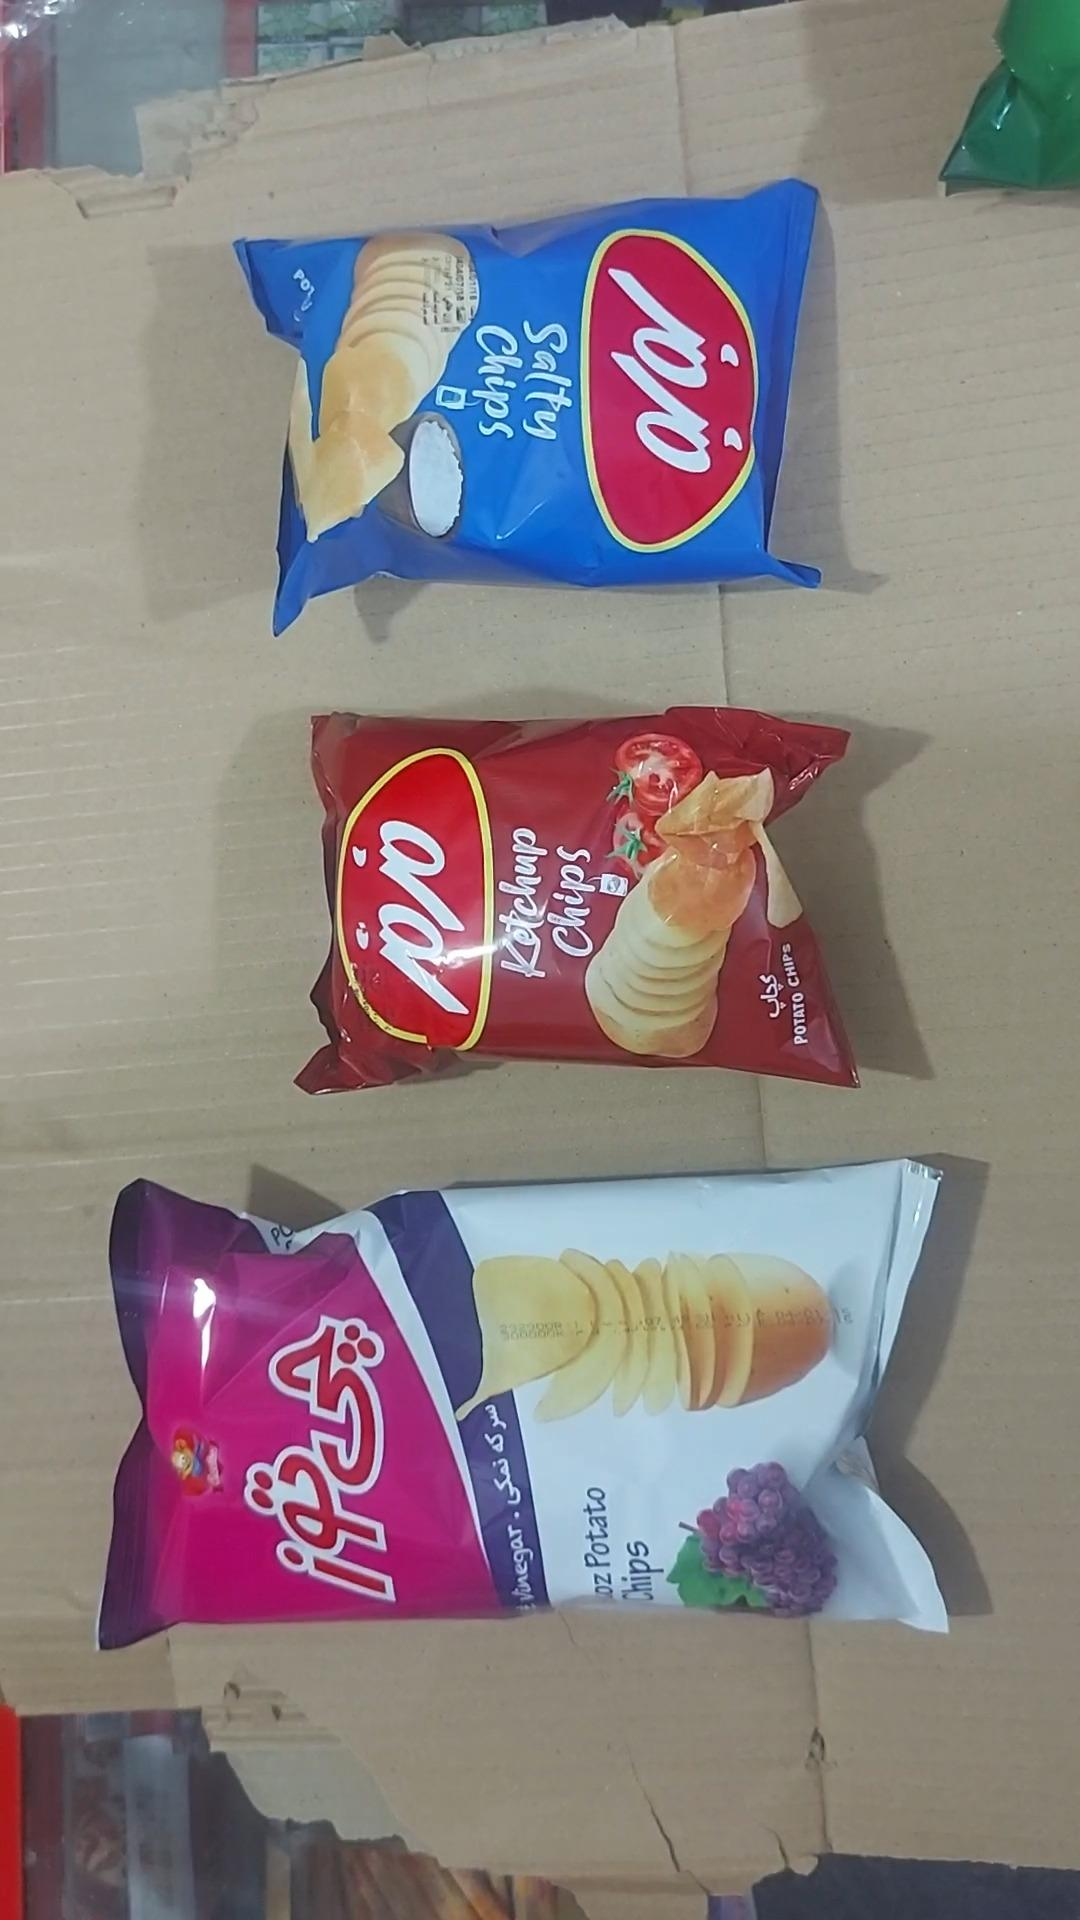Cheetoz vinegar chips: (98, 1160, 949, 1652)
Maz Maz ketchup chips: (294, 707, 861, 1097)
Maz Maz salty chips: (233, 179, 833, 638)
